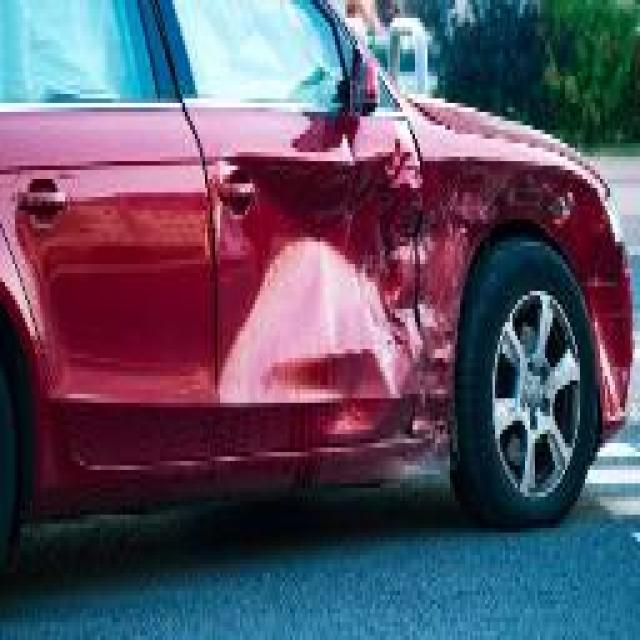Bumper: (586, 265, 640, 428)
Door: (192, 98, 418, 501)
Fender: (411, 138, 632, 511)
